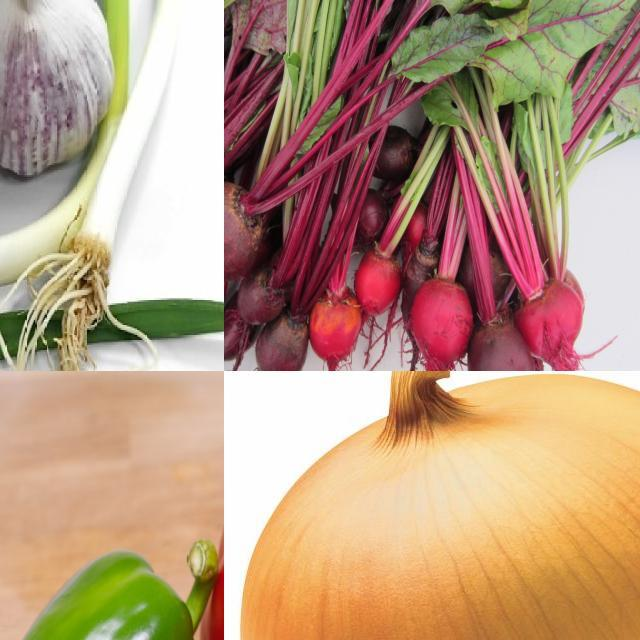beet: (415, 280, 479, 372), (518, 285, 584, 357), (470, 320, 544, 372), (318, 293, 366, 364), (225, 181, 260, 276), (362, 235, 399, 315), (259, 314, 306, 372), (235, 284, 277, 316)
bell_pepper: (1, 551, 221, 640)
garlic: (1, 1, 113, 170)
onion: (236, 372, 640, 640)
